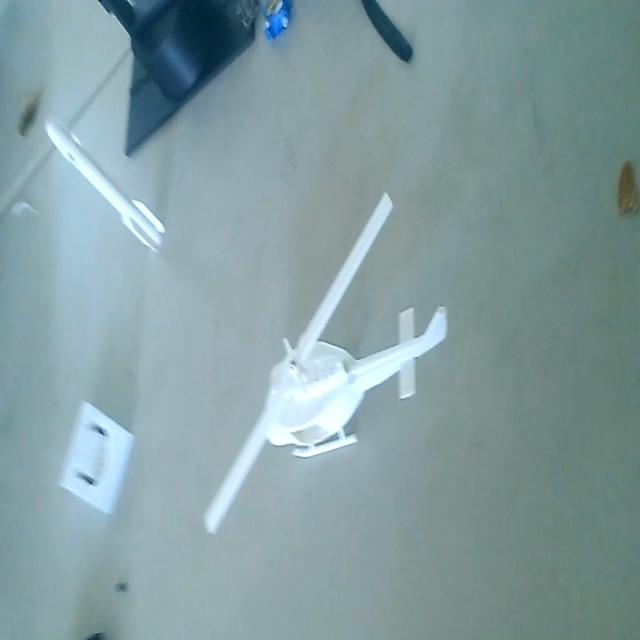Helicopter: (203, 189, 453, 535)
Rocket: (43, 110, 169, 258)
